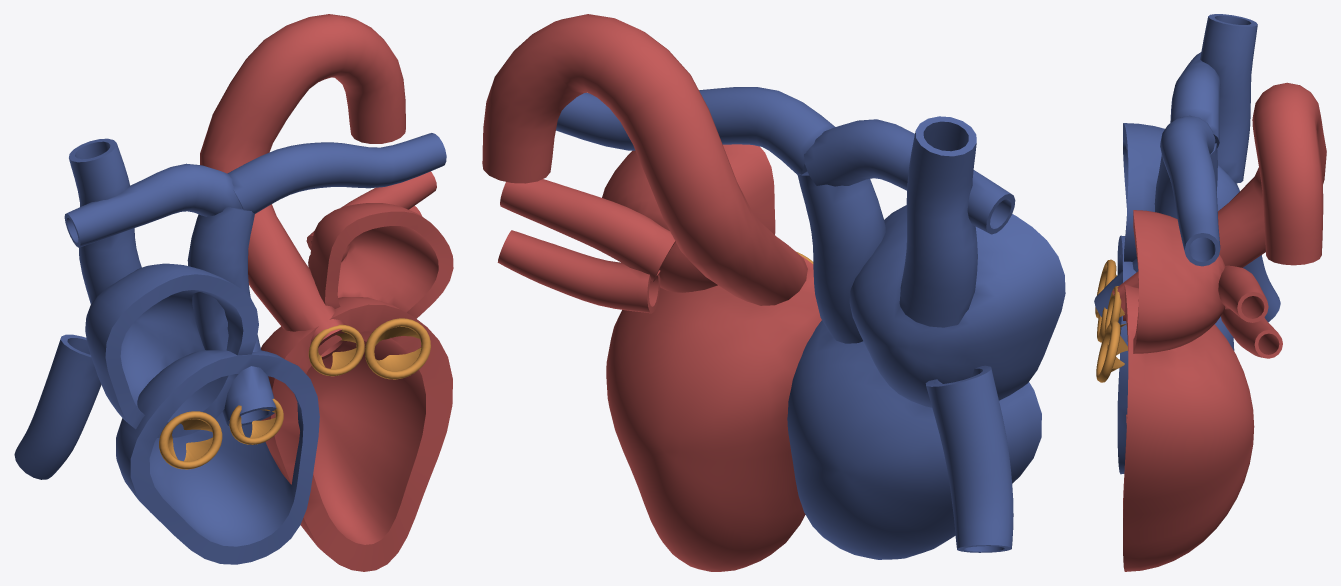
The model's file is explorar-heart.glb.
3 renders of one model, left to right at view 1: azimuth 30°, elevation 25°; view 2: azimuth 150°, elevation 25°; view 3: azimuth 270°, elevation 25°, orthographic. The views are drawn at different scales.
Visible parts, largest first — view 1: left_ventricle, aorta, right_ventricle, right_atrium, left_atrium, left_pulmonary_artery, pulmonary_trunk, right_pulmonary_artery, inferior_vena_cava, superior_vena_cava, mitral_valve, tricuspid_valve (+3 smaller); view 2: left_ventricle, aorta, right_ventricle, right_atrium, pulmonary_veins, superior_vena_cava, inferior_vena_cava, left_pulmonary_artery, pulmonary_trunk, right_pulmonary_artery, left_atrium; view 3: left_ventricle, aorta, left_atrium, left_pulmonary_artery, superior_vena_cava, right_atrium, pulmonary_veins, right_pulmonary_artery, right_ventricle, pulmonary_trunk, mitral_valve, inferior_vena_cava (+2 smaller).
Part boxes in pixels (x1=…): left_ventricle: x1=261, y1=297, x2=452, y2=571; aorta: x1=200, y1=14, x2=405, y2=359; right_ventricle: x1=116, y1=350, x2=319, y2=564; right_atrium: x1=85, y1=263, x2=258, y2=437; left_atrium: x1=309, y1=203, x2=453, y2=341; left_pulmonary_artery: x1=227, y1=133, x2=446, y2=213; pulmonary_trunk: x1=187, y1=207, x2=276, y2=425; right_pulmonary_artery: x1=64, y1=163, x2=241, y2=247; inferior_vena_cava: x1=14, y1=334, x2=101, y2=479; superior_vena_cava: x1=69, y1=138, x2=141, y2=304; mitral_valve: x1=364, y1=318, x2=430, y2=379; tricuspid_valve: x1=159, y1=411, x2=222, y2=469; left_ventricle: x1=606, y1=256, x2=821, y2=571; aorta: x1=482, y1=14, x2=807, y2=305; right_ventricle: x1=787, y1=320, x2=1041, y2=559; right_atrium: x1=849, y1=205, x2=1065, y2=407; pulmonary_veins: x1=497, y1=179, x2=675, y2=313; superior_vena_cava: x1=899, y1=116, x2=977, y2=327; inferior_vena_cava: x1=925, y1=365, x2=1013, y2=552; left_pulmonary_artery: x1=556, y1=87, x2=835, y2=174; pulmonary_trunk: x1=797, y1=171, x2=885, y2=343; right_pulmonary_artery: x1=804, y1=119, x2=1015, y2=234; left_atrium: x1=602, y1=144, x2=775, y2=292; left_ventricle: x1=1123, y1=284, x2=1254, y2=571; aorta: x1=1112, y1=82, x2=1326, y2=313; left_atrium: x1=1133, y1=210, x2=1225, y2=353; left_pulmonary_artery: x1=1160, y1=115, x2=1220, y2=266; superior_vena_cava: x1=1200, y1=14, x2=1257, y2=183; right_atrium: x1=1123, y1=123, x2=1239, y2=261; pulmonary_veins: x1=1218, y1=265, x2=1282, y2=358; right_pulmonary_artery: x1=1170, y1=52, x2=1220, y2=147; right_ventricle: x1=1117, y1=235, x2=1234, y2=474; pulmonary_trunk: x1=1094, y1=143, x2=1217, y2=334; mitral_valve: x1=1096, y1=321, x2=1127, y2=382; inferior_vena_cava: x1=1243, y1=255, x2=1280, y2=322.
Size of the model in its own units: 0.1541 by 0.1751 by 0.0755.
